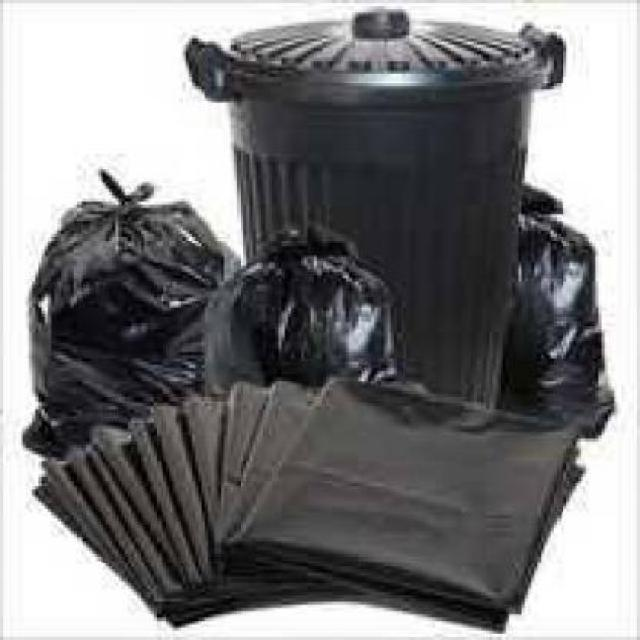garbage: (9, 3, 636, 637)
